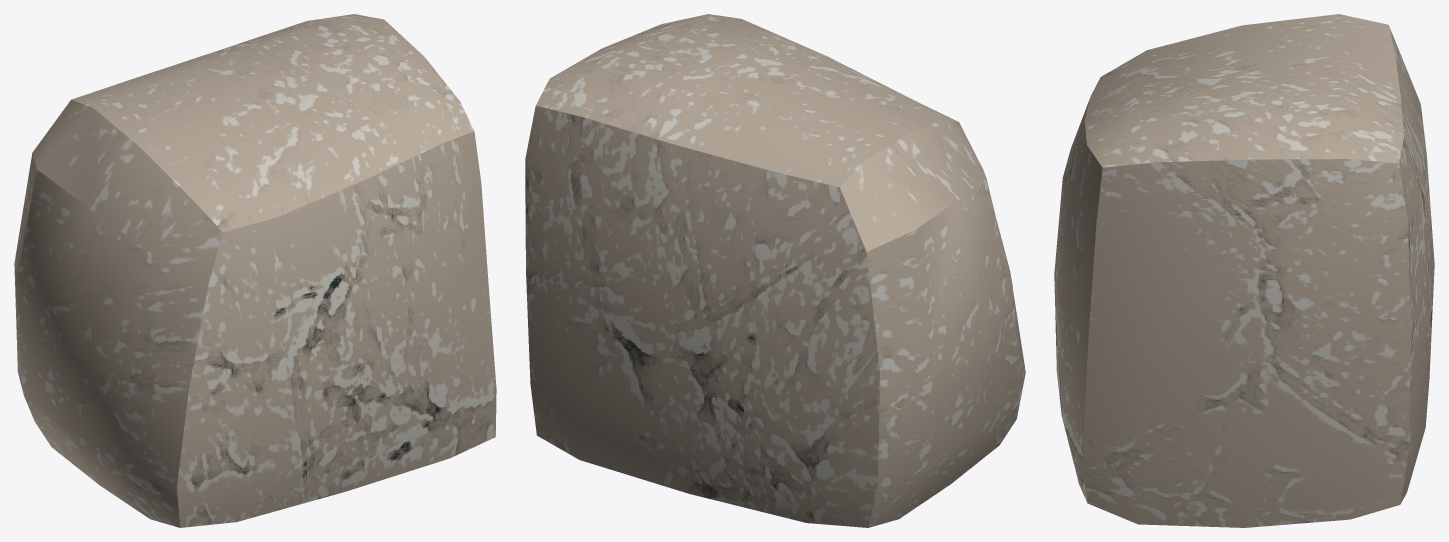
Rendered from Pedra_pequena.fbx.
3 renders of one model, left to right at view 1: azimuth 30°, elevation 25°; view 2: azimuth 150°, elevation 25°; view 3: azimuth 270°, elevation 25°, orthographic. The views are drawn at different scales.
Visible parts, largest first — view 1: Pedra_pequena; view 2: Pedra_pequena; view 3: Pedra_pequena.
Boxes of the visible parts, bbox=[...] form: Pedra_pequena: bbox=[14, 14, 496, 527]; Pedra_pequena: bbox=[525, 14, 1025, 527]; Pedra_pequena: bbox=[1054, 14, 1434, 527].
Bounding box in the file's own units: 78.77 × 74.74 × 62.49.
